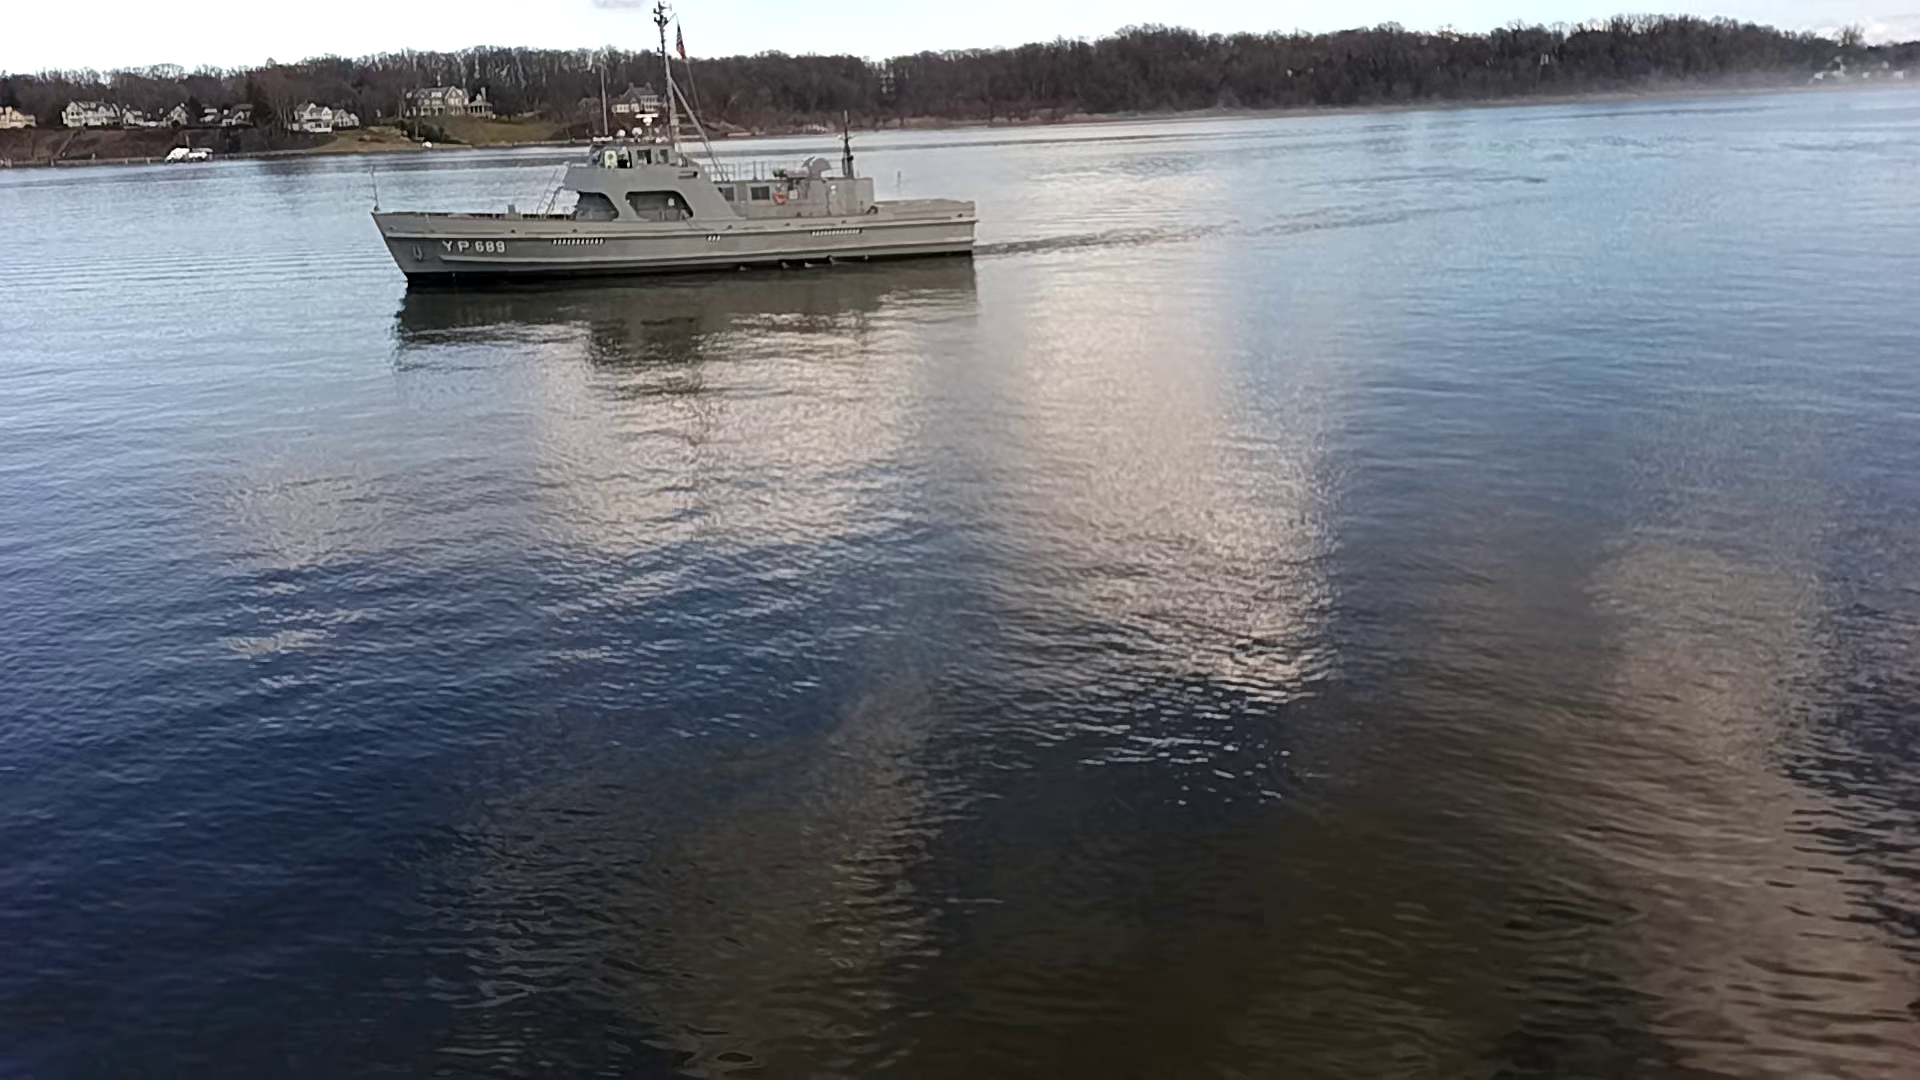YP689: (372, 0, 977, 287)
